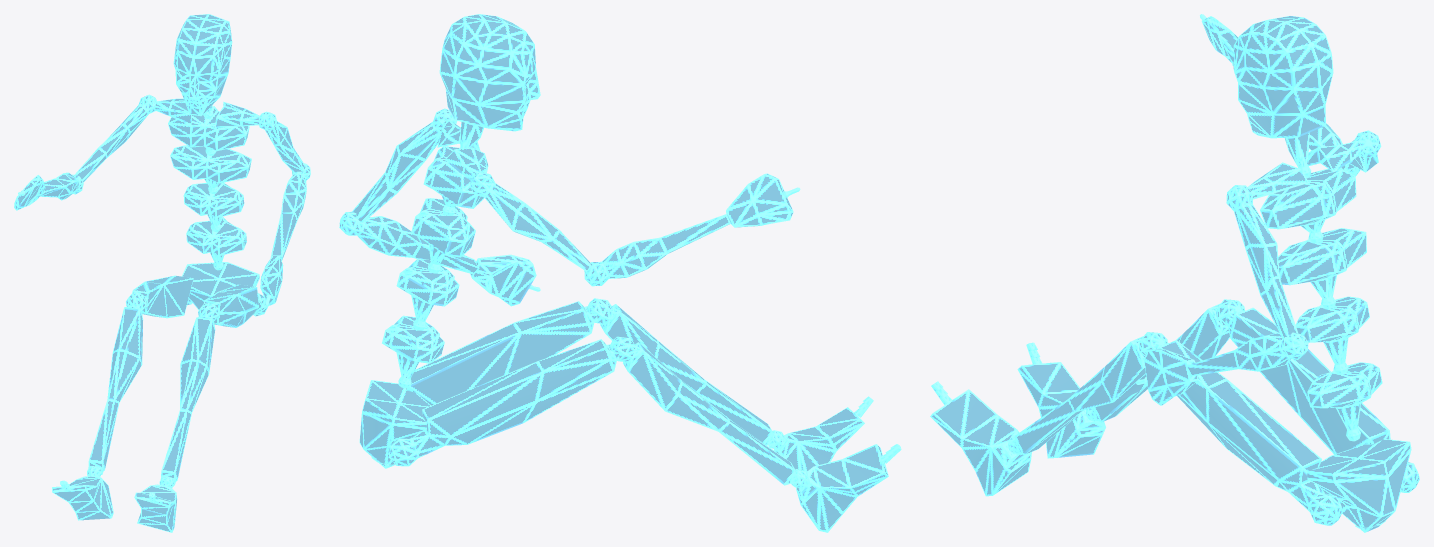
The model's file is skeleton_sitdown.gltf.
The picture shows the model from 3 angles, left to right: view 1: azimuth 30°, elevation 25°; view 2: azimuth 150°, elevation 25°; view 3: azimuth 270°, elevation 25°; orthographic projection. The views are drawn at different scales.
Visible parts, largest first — view 1: Bip01.003; view 2: Bip01.003; view 3: Bip01.003.
Part boxes in pixels (left/top/right/bottom): Bip01.003: left=14, top=14, right=310, bottom=532; Bip01.003: left=339, top=14, right=901, bottom=532; Bip01.003: left=930, top=14, right=1419, bottom=532.
Bounding box in the file's own units: 7.51 × 8.43 × 6.56.
Materials: 1 (1 with a texture image).
